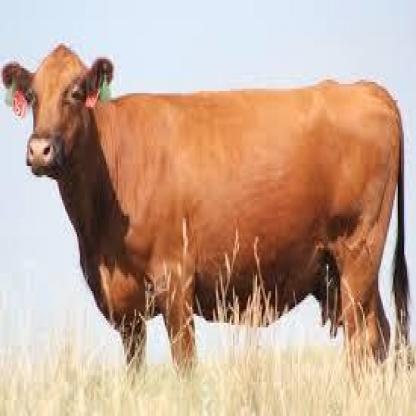cow: (2, 43, 408, 375)
